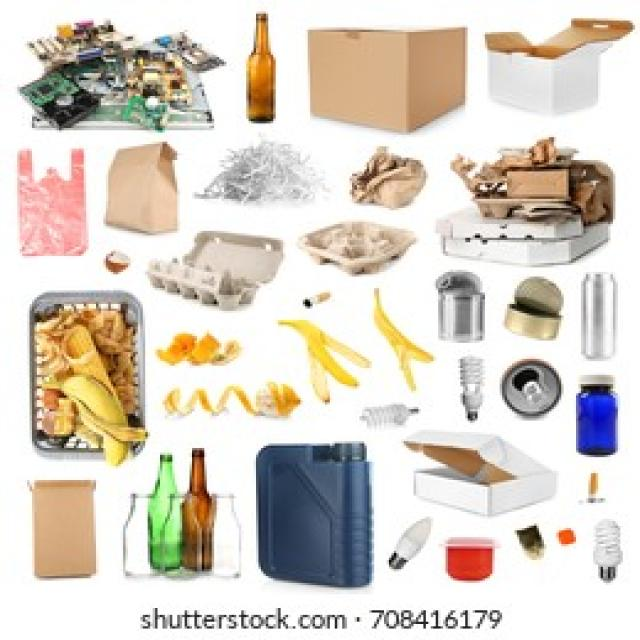cardboard: (456, 142, 610, 270), (310, 21, 470, 130), (485, 9, 618, 121), (426, 432, 554, 519), (22, 480, 118, 585), (155, 242, 291, 309), (120, 142, 180, 228)
glass: (143, 452, 239, 574), (241, 14, 286, 121), (588, 516, 618, 583)
metal: (22, 25, 224, 126), (254, 446, 376, 587), (576, 274, 623, 364), (436, 272, 494, 341), (514, 281, 574, 343), (502, 370, 566, 425), (352, 402, 428, 441)
paper: (354, 146, 434, 220)
plastic: (15, 140, 108, 274), (214, 144, 320, 208), (438, 535, 502, 585)
trash: (32, 302, 143, 475), (180, 331, 430, 398), (517, 521, 576, 560)
